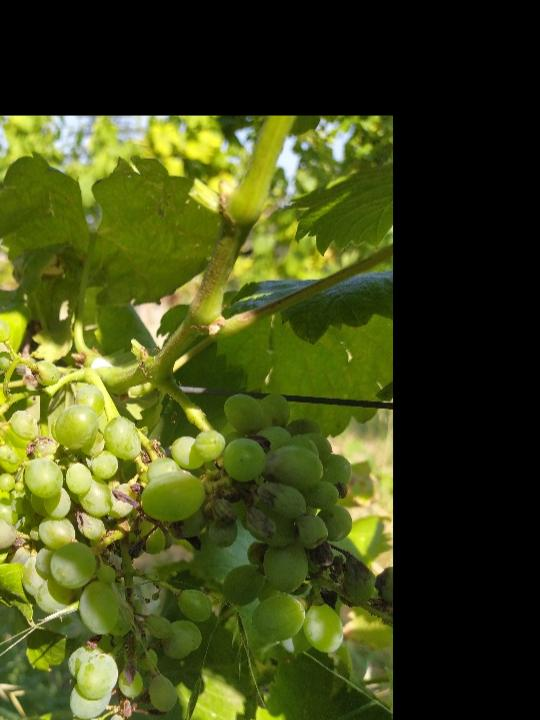grape: (0, 318, 357, 720)
